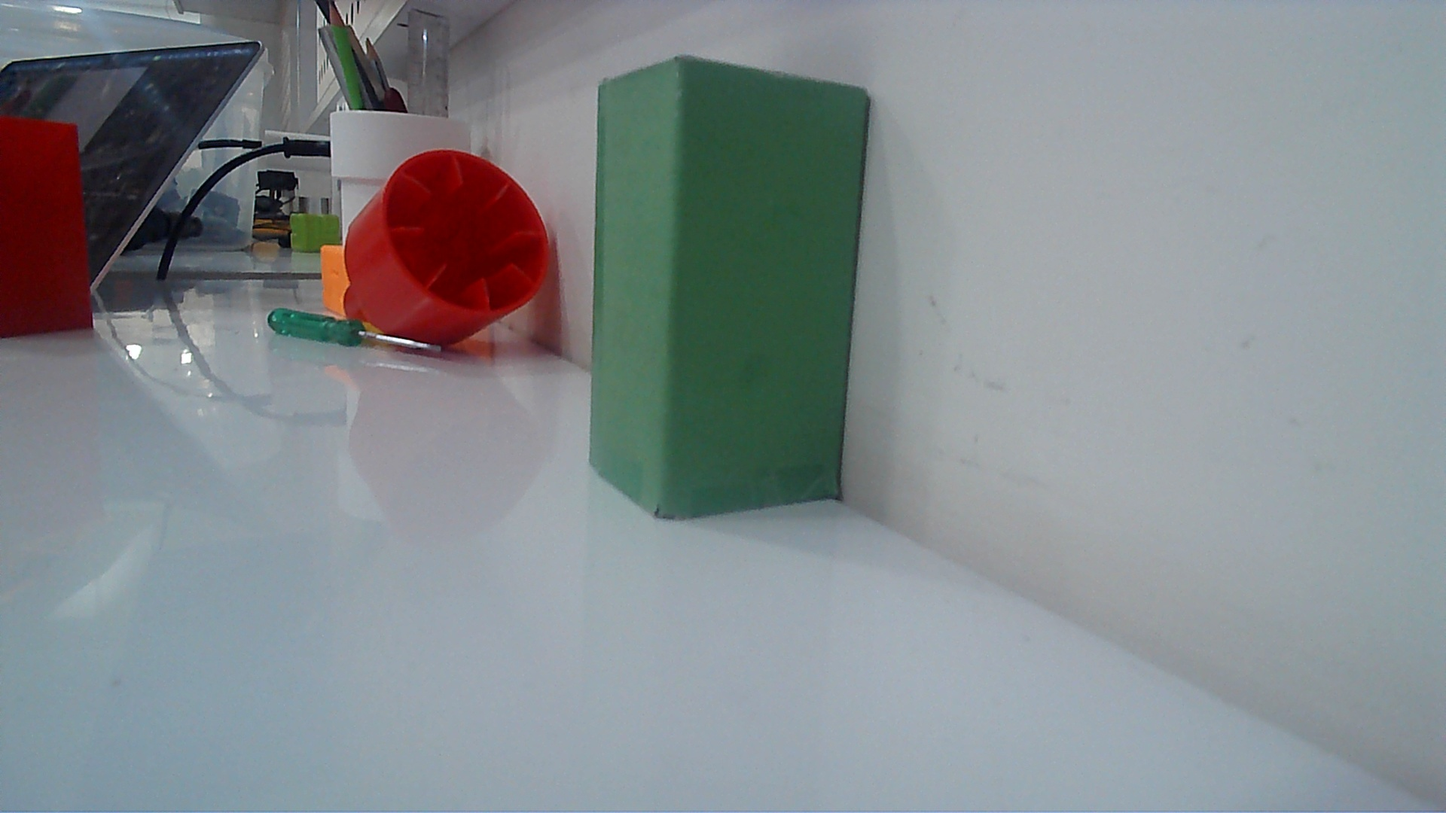green: (571, 59, 884, 550)
